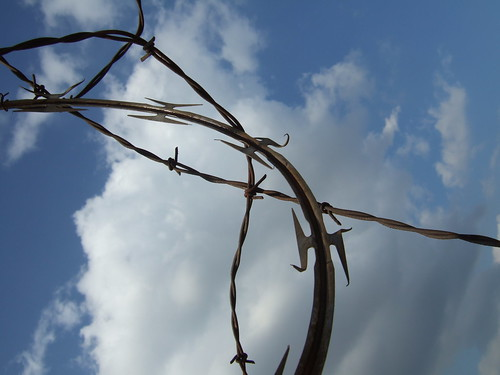barbed wire: (1, 16, 413, 363)
sky: (1, 1, 500, 369)
